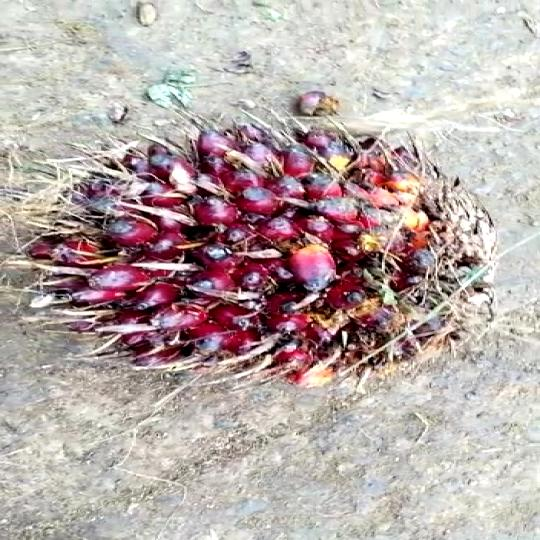kurang masak: (42, 124, 507, 388)
